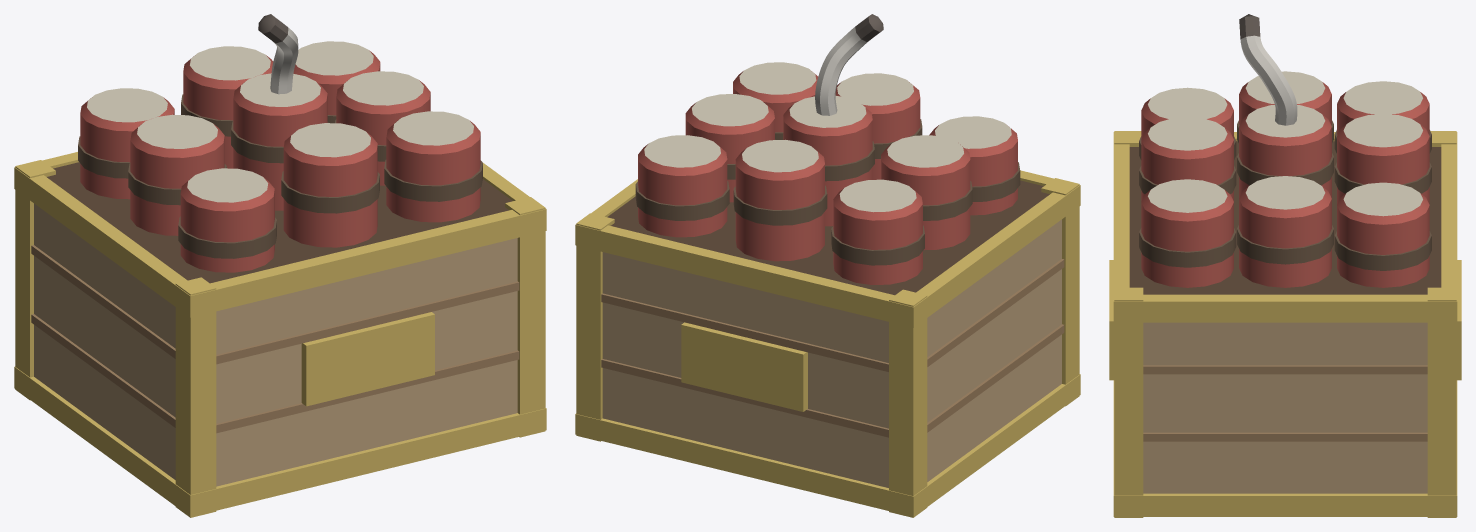
File: dynamite_b_evo.glb
The picture shows the model from 3 angles, left to right: view 1: azimuth 30°, elevation 25°; view 2: azimuth 150°, elevation 25°; view 3: azimuth 270°, elevation 25°; orthographic projection. The views are drawn at different scales.
Parts seen in each view (by area): view 1: Boomtown; view 2: Boomtown; view 3: Boomtown.
Part boxes in pixels (left/top/right/bottom): Boomtown: left=14, top=14, right=546, bottom=517; Boomtown: left=575, top=14, right=1080, bottom=517; Boomtown: left=1109, top=14, right=1461, bottom=517.
Bounding box in the file's own units: 0.554 × 0.6163 × 0.486.
